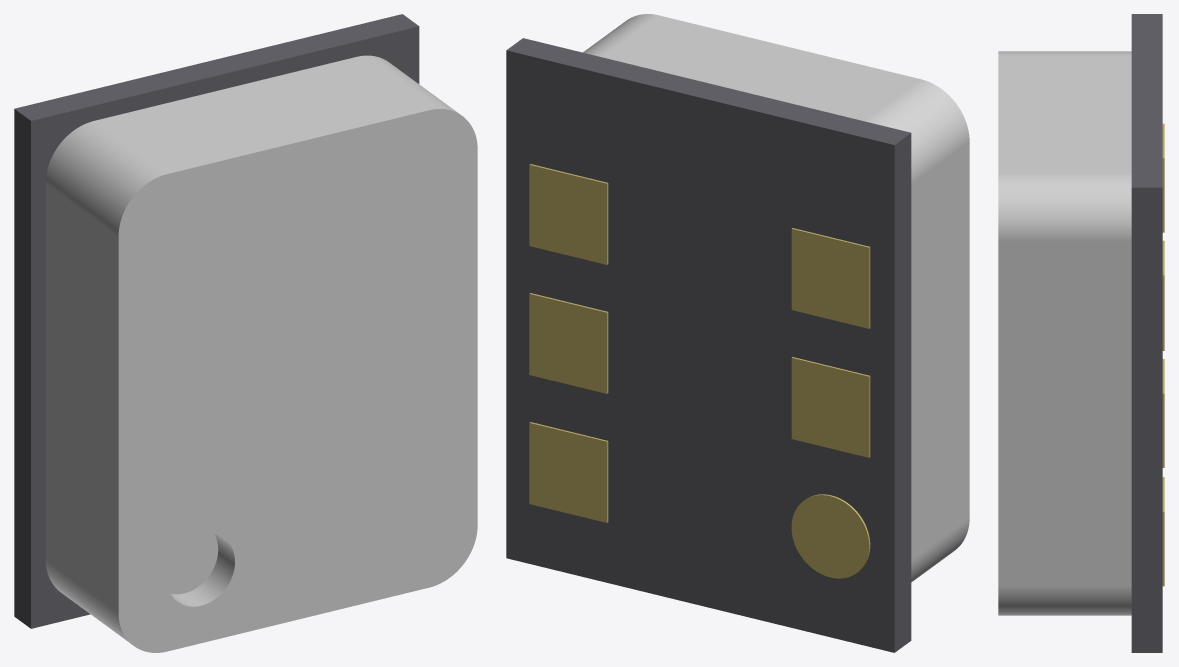
Rendered from aht10.glb.
3 views of the same model, side by side, from view 1: azimuth 30°, elevation 25°; view 2: azimuth 150°, elevation 25°; view 3: azimuth 270°, elevation 25° (orthographic). The views are drawn at different scales.
Parts seen in each view (by area): view 1: world; view 2: world; view 3: world.
Boxes of the visible parts, <box> form: world: <box>14,14,477,652</box>; world: <box>506,14,969,652</box>; world: <box>998,14,1164,652</box>.
Bounding box in the file's own units: 4 × 5 × 1.62.
